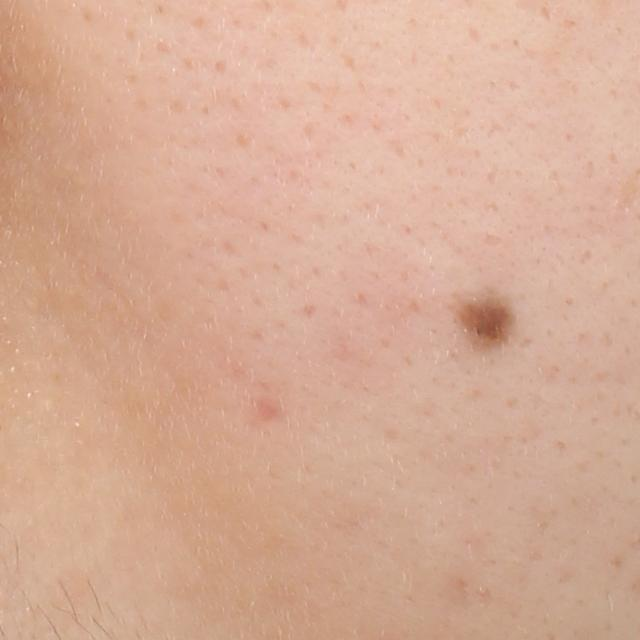atrophic_scar: (254, 392, 293, 429)
nevus: (444, 283, 523, 354)
